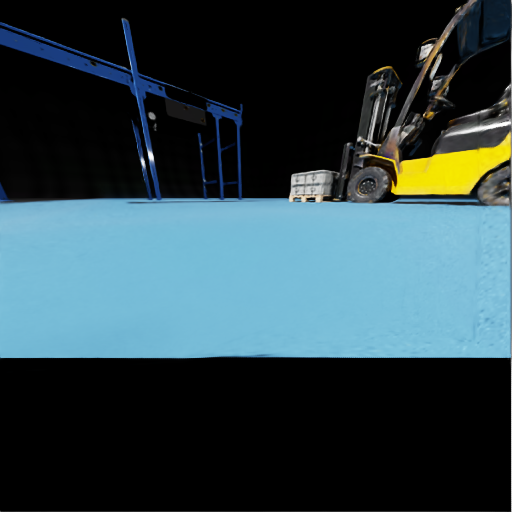transportation_area: (305, 183, 336, 194), (149, 85, 150, 86), (131, 79, 132, 80), (85, 64, 86, 65), (41, 49, 42, 50)
